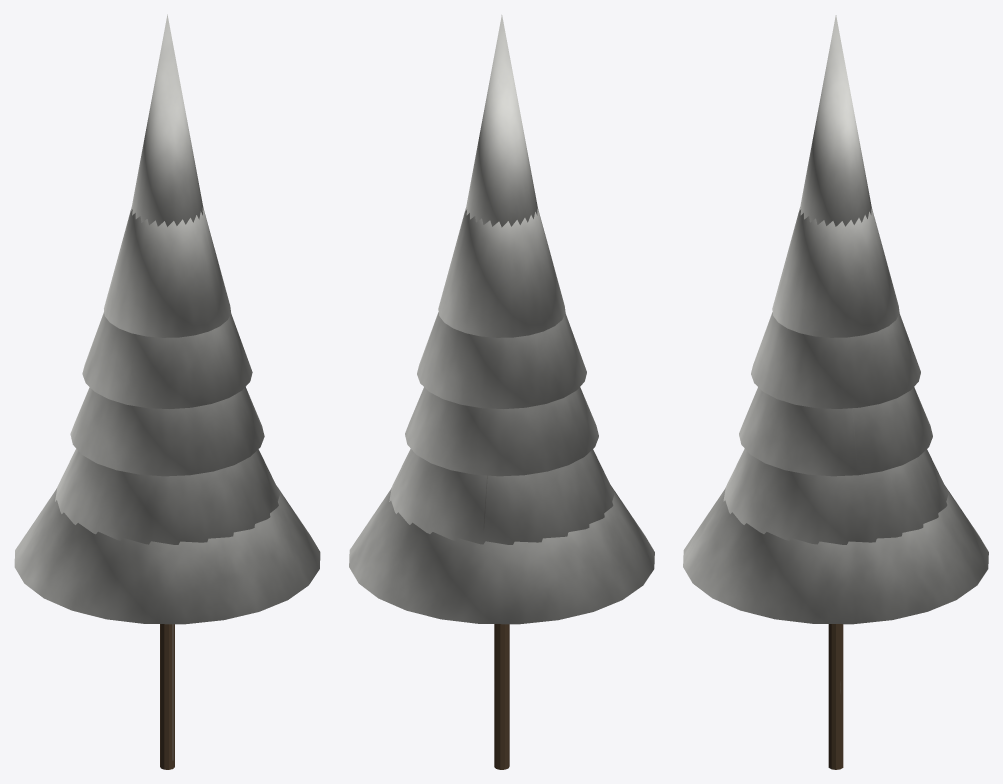
Rendered from smrk_les_v1.glb.
3 views of the same model, side by side, from view 1: azimuth 30°, elevation 25°; view 2: azimuth 150°, elevation 25°; view 3: azimuth 270°, elevation 25° (orthographic).
Parts seen in each view (by area): view 1: dum; view 2: dum; view 3: dum.
Boxes of the visible parts, x1=… form: dum: x1=14, y1=14, x2=320, y2=769; dum: x1=349, y1=15, x2=654, y2=769; dum: x1=683, y1=15, x2=988, y2=769.
Bounding box in the file's own units: 6.41 × 17.4 × 6.41.
1 material, 1 textured.
